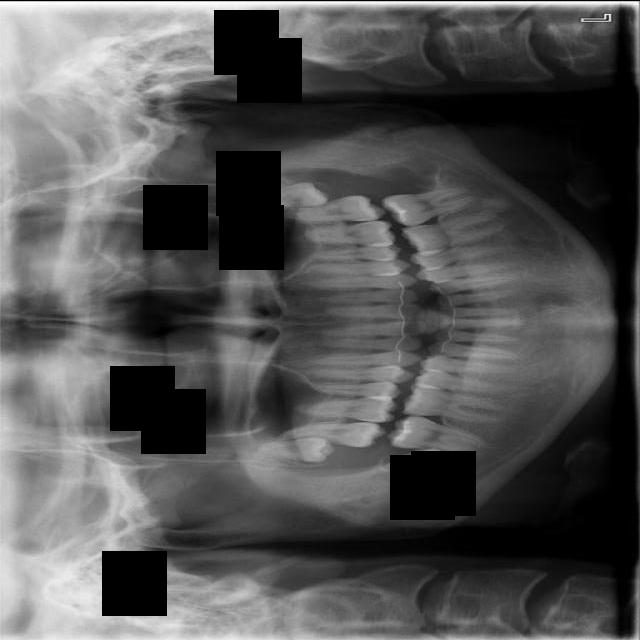3M ESPE Implant: (257, 431, 336, 462)
73: (581, 59, 595, 68)
BioHorizons Implant: (285, 194, 387, 220)
BioLife Implant: (251, 179, 331, 211)
Blue Sky Bio Implant: (380, 182, 481, 229)
Caries: (277, 421, 387, 447)
Implant: (387, 412, 487, 451)
Keystone Dental Implant: (386, 436, 461, 486)
